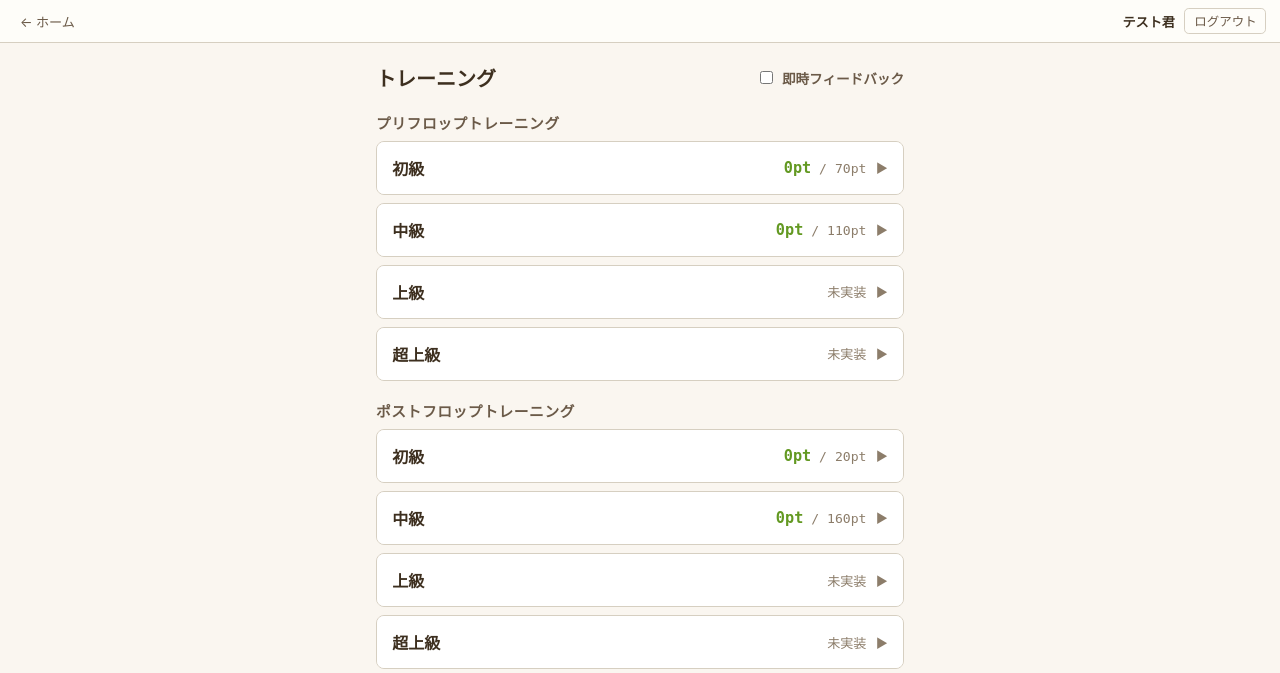
Scenario: <QuizPage /> アコーディオン開閉 › 中級を展開すると短縮ラベル (総合問題 / EP(UTG,HJ) / Blind(SB,BB)) が出る
expect the text "EP(UTG,HJ)" is not shown: met
Click the button "中級 0pt / 110pt ▶" at (408, 231), box [377, 204, 903, 256]
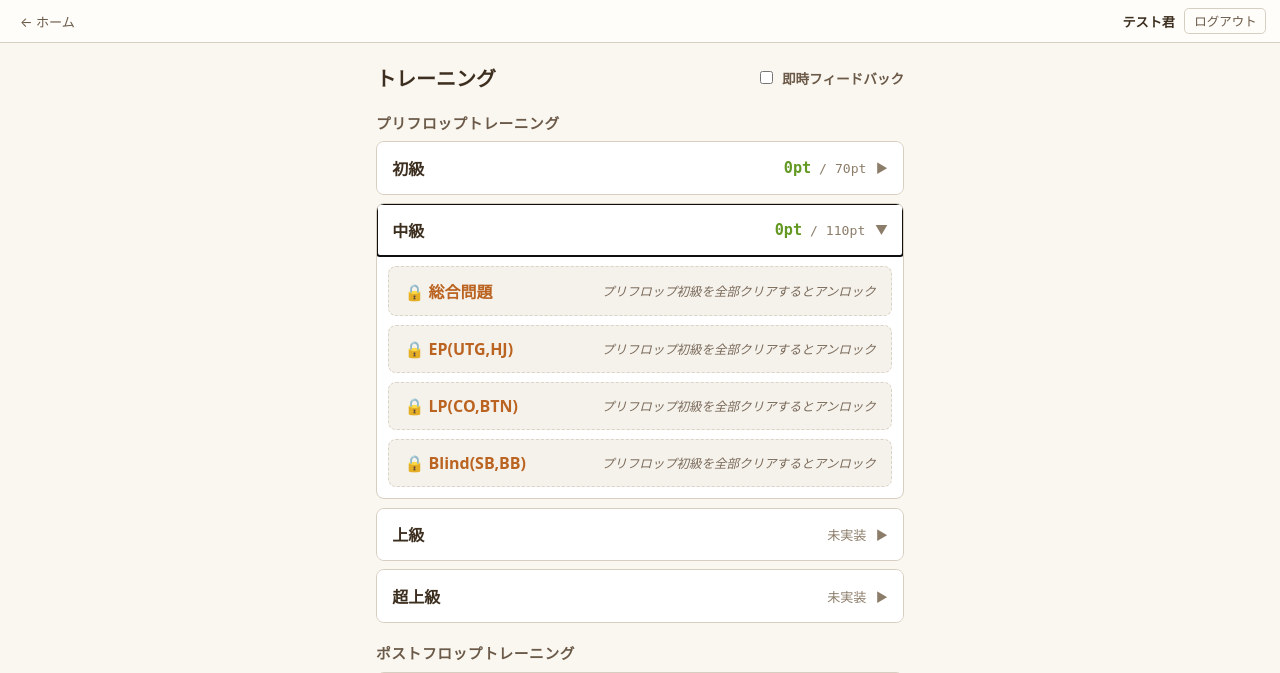
expect the text "総合問題" is shown: met, box [428, 281, 492, 303]
expect the text "EP(UTG,HJ)" is shown: met, box [428, 338, 513, 360]
expect the text "Blind(SB,BB)" is shown: met, box [428, 452, 526, 474]
